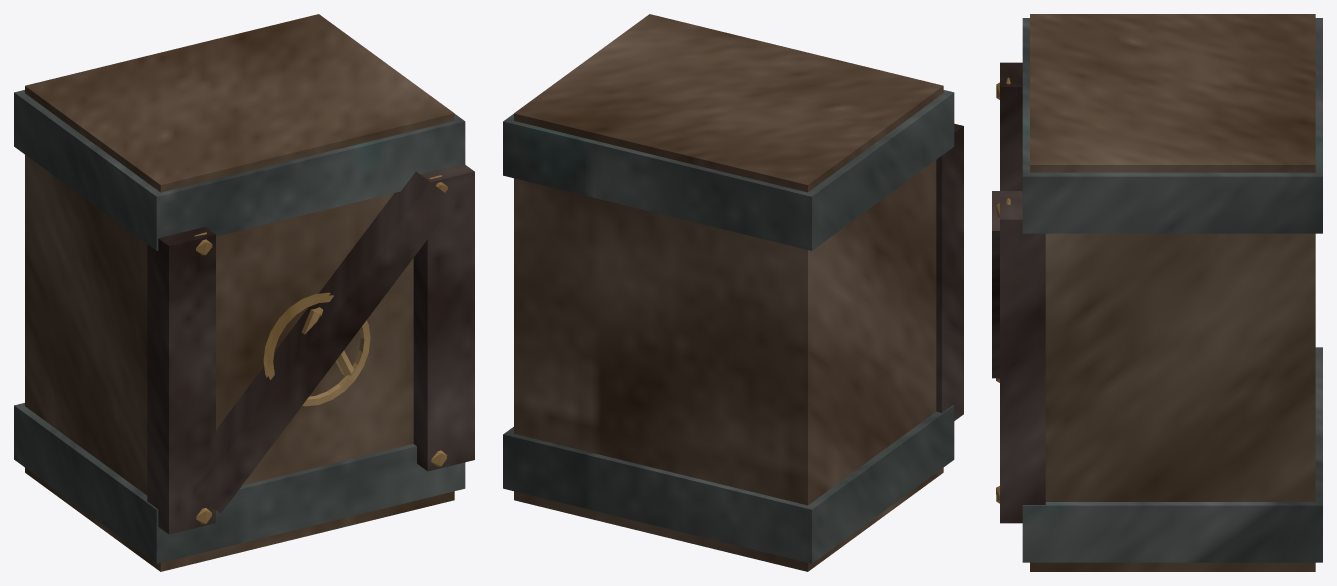
The model's file is 0750_supply_crate_25.glb.
The picture shows the model from 3 angles, left to right: view 1: azimuth 30°, elevation 25°; view 2: azimuth 150°, elevation 25°; view 3: azimuth 270°, elevation 25°; orthographic projection. The views are drawn at different scales.
Visible parts, largest first — view 1: wood, wood_dark, iron, brass; view 2: wood, iron, wood_dark; view 3: wood, iron, wood_dark.
Part boxes in pixels (left/top/right/bottom): wood: left=25, top=14, right=454, bottom=571; wood_dark: left=147, top=164, right=474, bottom=534; iron: left=14, top=90, right=465, bottom=563; brass: left=194, top=175, right=447, bottom=524; wood: left=514, top=14, right=943, bottom=571; iron: left=503, top=90, right=954, bottom=563; wood_dark: left=936, top=123, right=963, bottom=420; wood: left=1030, top=14, right=1315, bottom=571; iron: left=1022, top=18, right=1322, bottom=562; wood_dark: left=992, top=62, right=1045, bottom=523.
Size of the model in its own units: 0.6562 by 0.7856 by 0.5787.
Materials: 4 (4 with a texture image).
